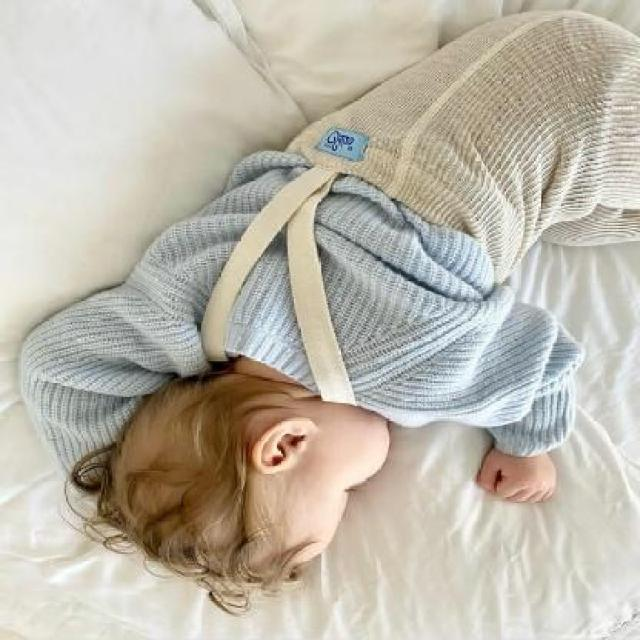baby: (15, 160, 583, 586)
